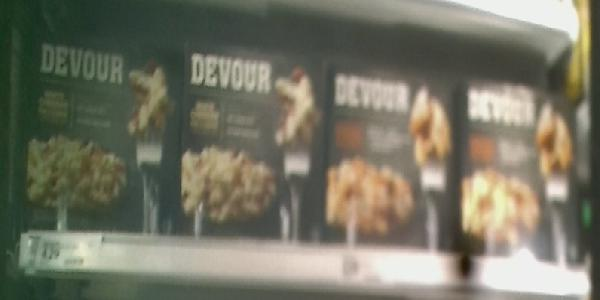pizza1: (16, 7, 174, 244), (180, 39, 315, 249), (325, 57, 451, 270), (460, 75, 584, 277)
